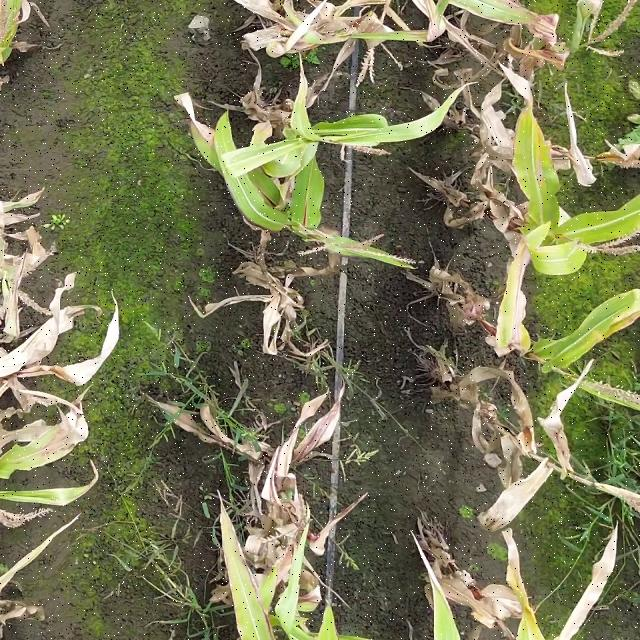northern-leaf-blight: (524, 130, 554, 188), (31, 431, 79, 467), (604, 298, 640, 333)
